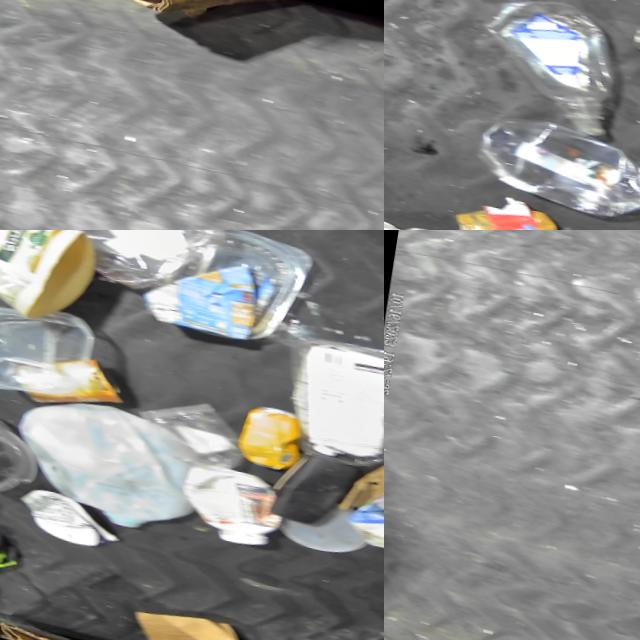can: (19, 338, 131, 419), (233, 391, 308, 470), (384, 208, 458, 230)
milk_jug: (4, 380, 211, 539)
plastic_bottle: (464, 0, 631, 138), (467, 99, 640, 227), (56, 230, 269, 312)
